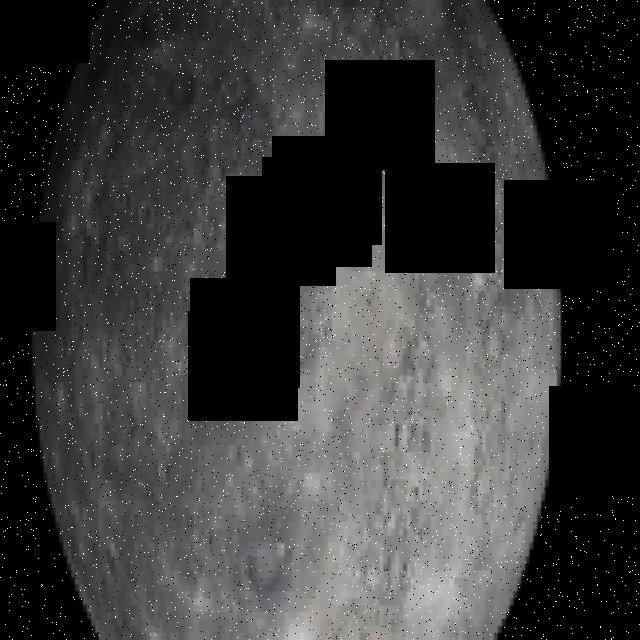Mercury: (28, 0, 562, 640)
